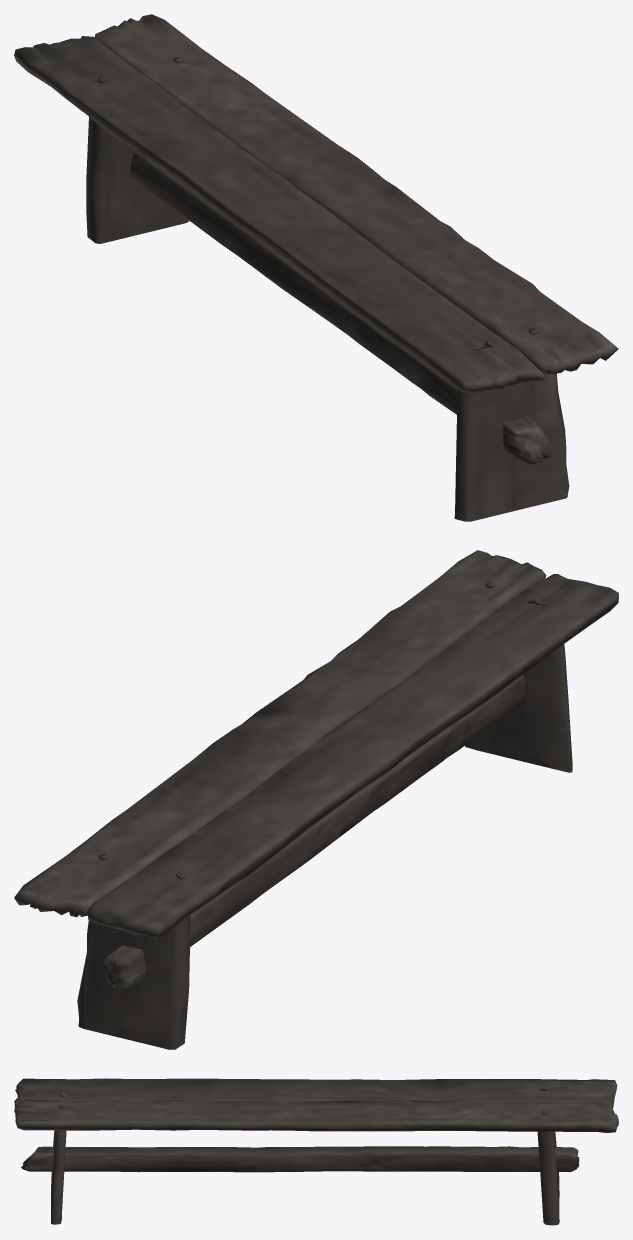
The model's file is Bench_01.fbx.
The picture shows the model from 3 angles, top to bottom: view 1: azimuth 30°, elevation 25°; view 2: azimuth 150°, elevation 25°; view 3: azimuth 270°, elevation 25°; orthographic projection. The views are drawn at different scales.
Visible parts, largest first — view 1: Bench_01; view 2: Bench_01; view 3: Bench_01.
Part boxes in pixels (left/top/right/bottom): Bench_01: left=14, top=14, right=618, bottom=521; Bench_01: left=14, top=550, right=618, bottom=1049; Bench_01: left=14, top=1078, right=618, bottom=1225.
Size of what is drawn, in the model's own units: 43.29 by 46.04 by 230.
